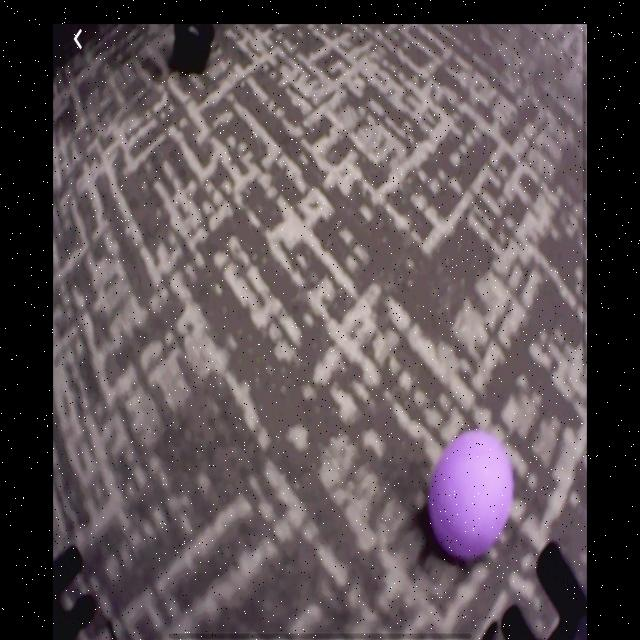ball: (430, 432, 514, 563)
